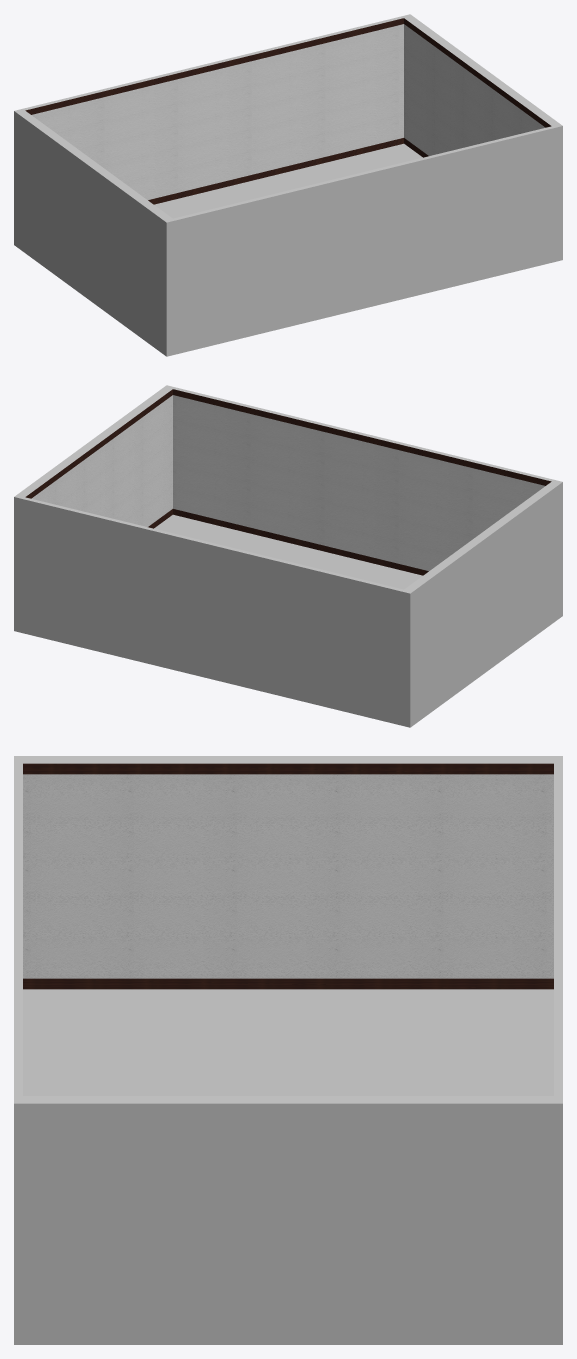
The model's file is ruang mianmenu.fbx.
3 renders of one model, top to bottom at view 1: azimuth 30°, elevation 25°; view 2: azimuth 150°, elevation 25°; view 3: azimuth 270°, elevation 25°, orthographic. The views are drawn at different scales.
Parts seen in each view (by area): view 1: Cube; view 2: Cube; view 3: Cube.
Part boxes in pixels (left/top/right/bottom): Cube: left=14, top=14, right=562, bottom=356; Cube: left=14, top=385, right=562, bottom=727; Cube: left=14, top=756, right=562, bottom=1344.
Size of the model in its own units: 5223 by 1689 by 3485.
